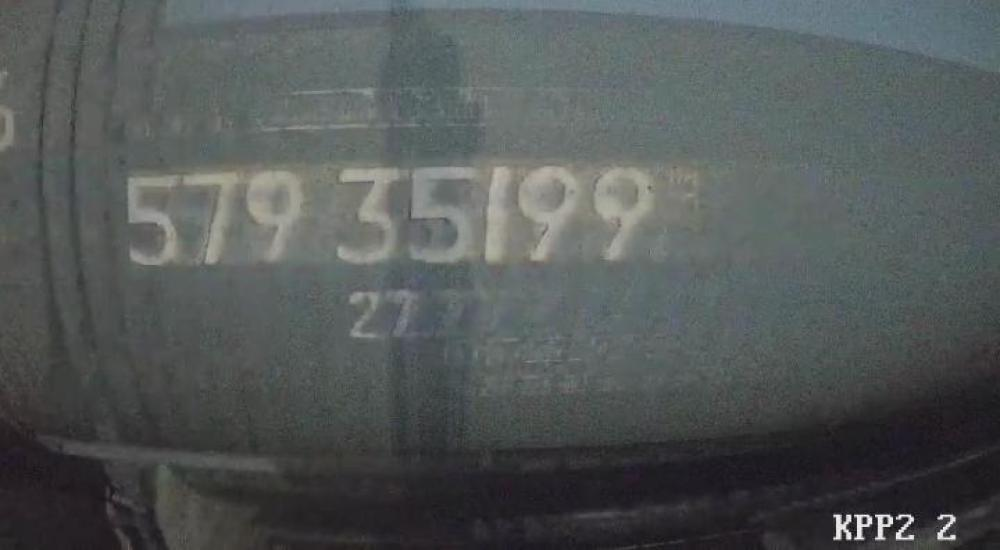Wagon-number: (116, 158, 662, 277)
